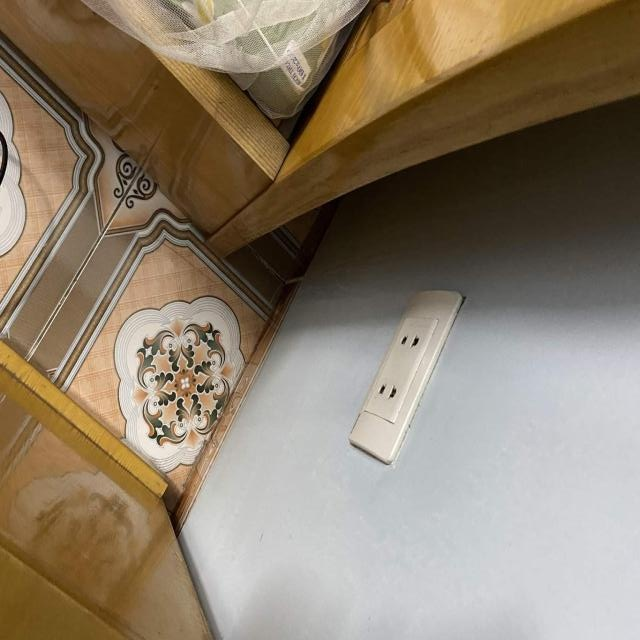outlet: (349, 289, 466, 465)
